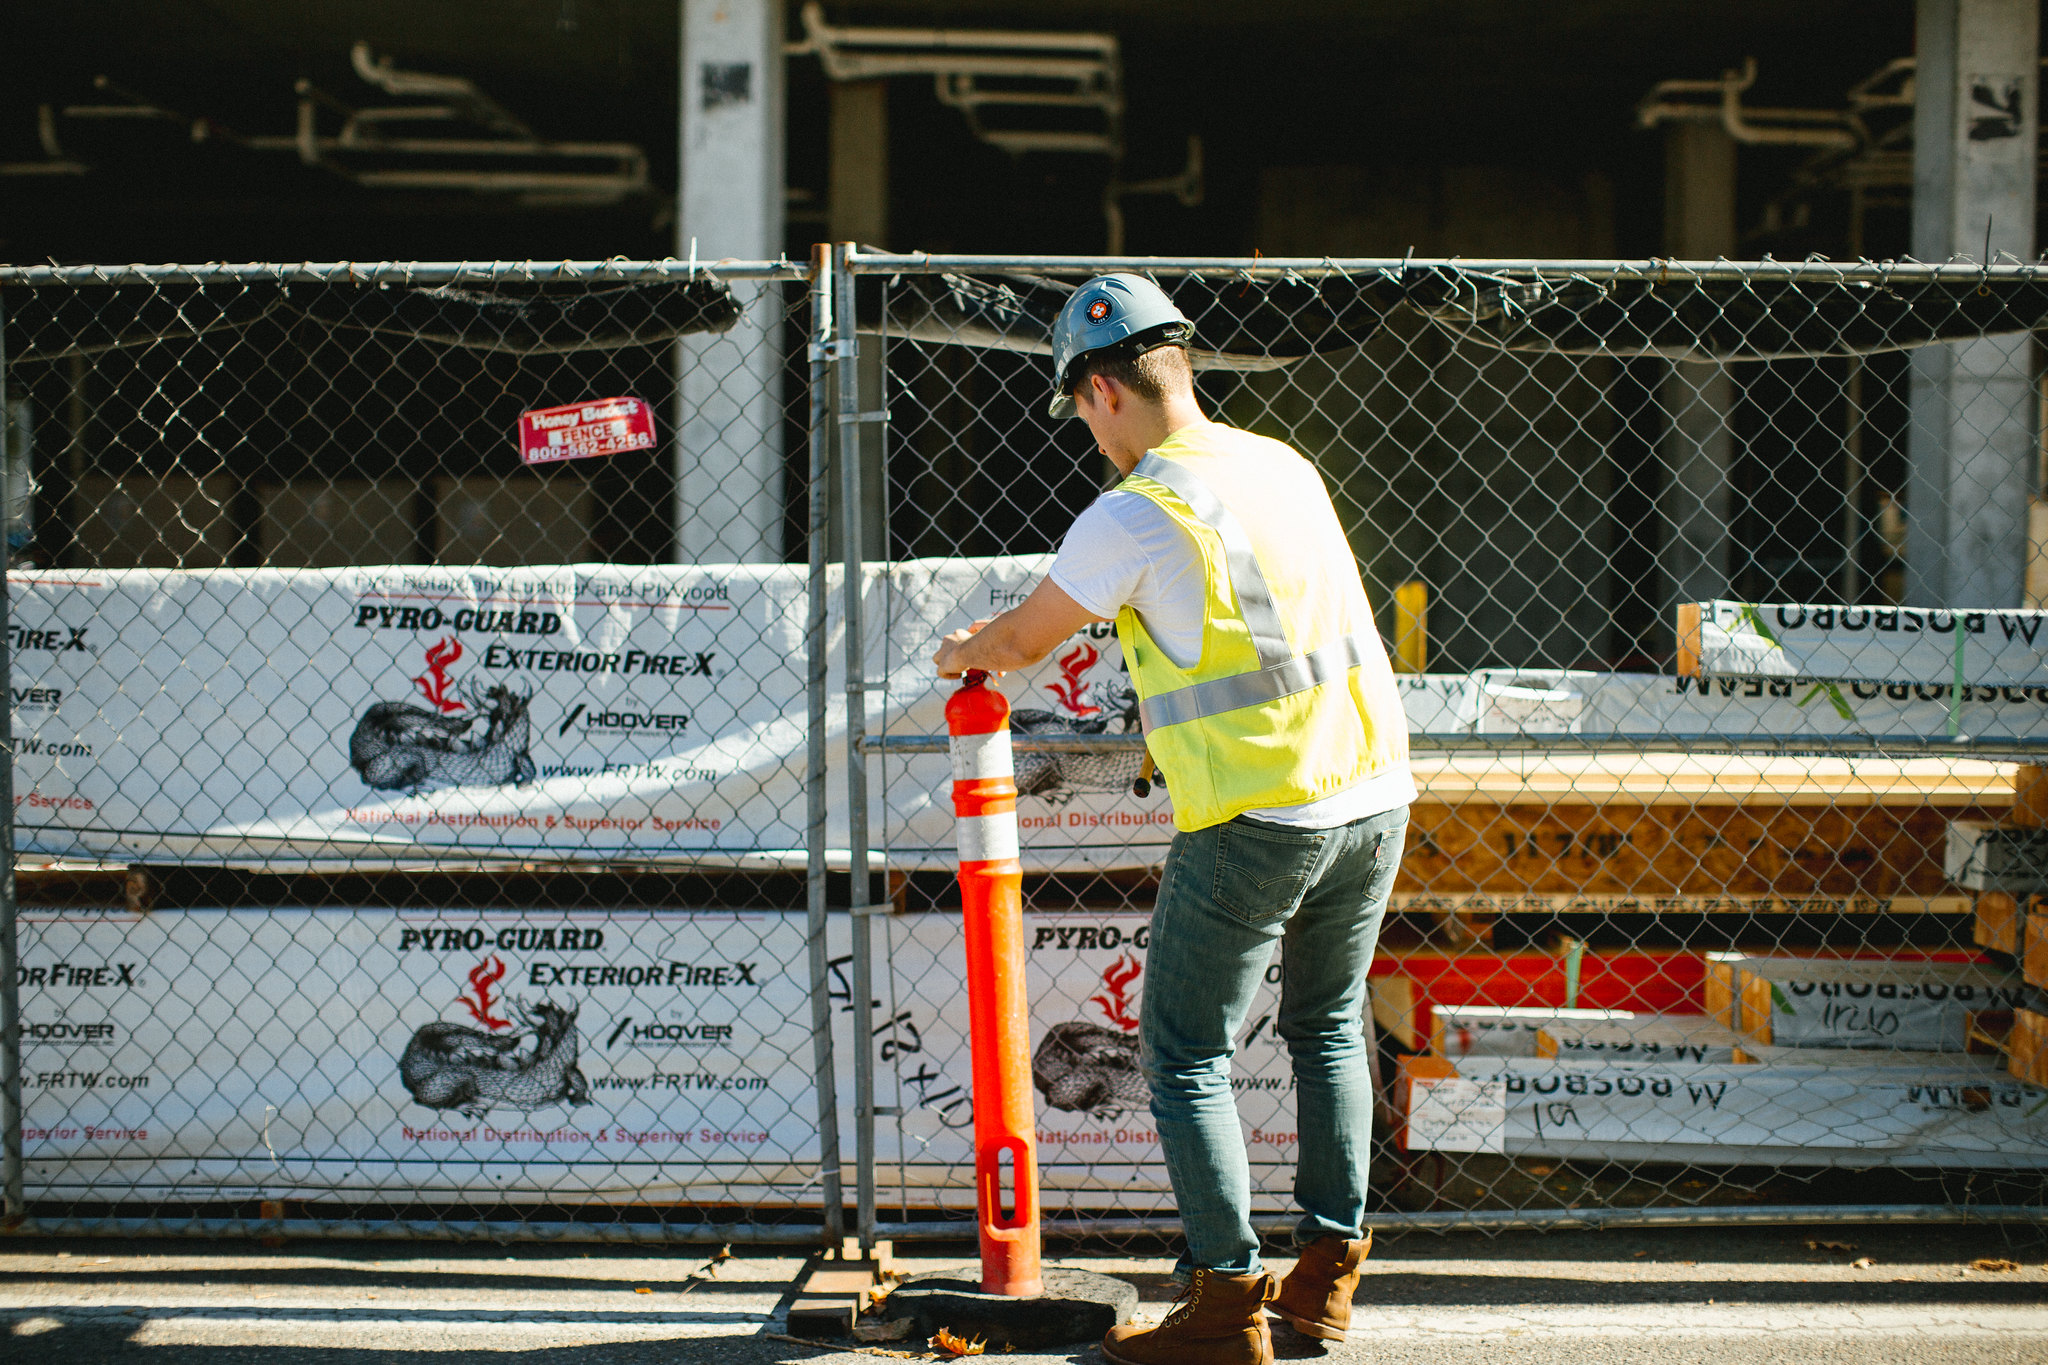Helmet: (1026, 254, 1218, 449)
Reflective vest: (1099, 411, 1419, 839)
